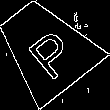P_NW: (14, 17, 77, 79)
